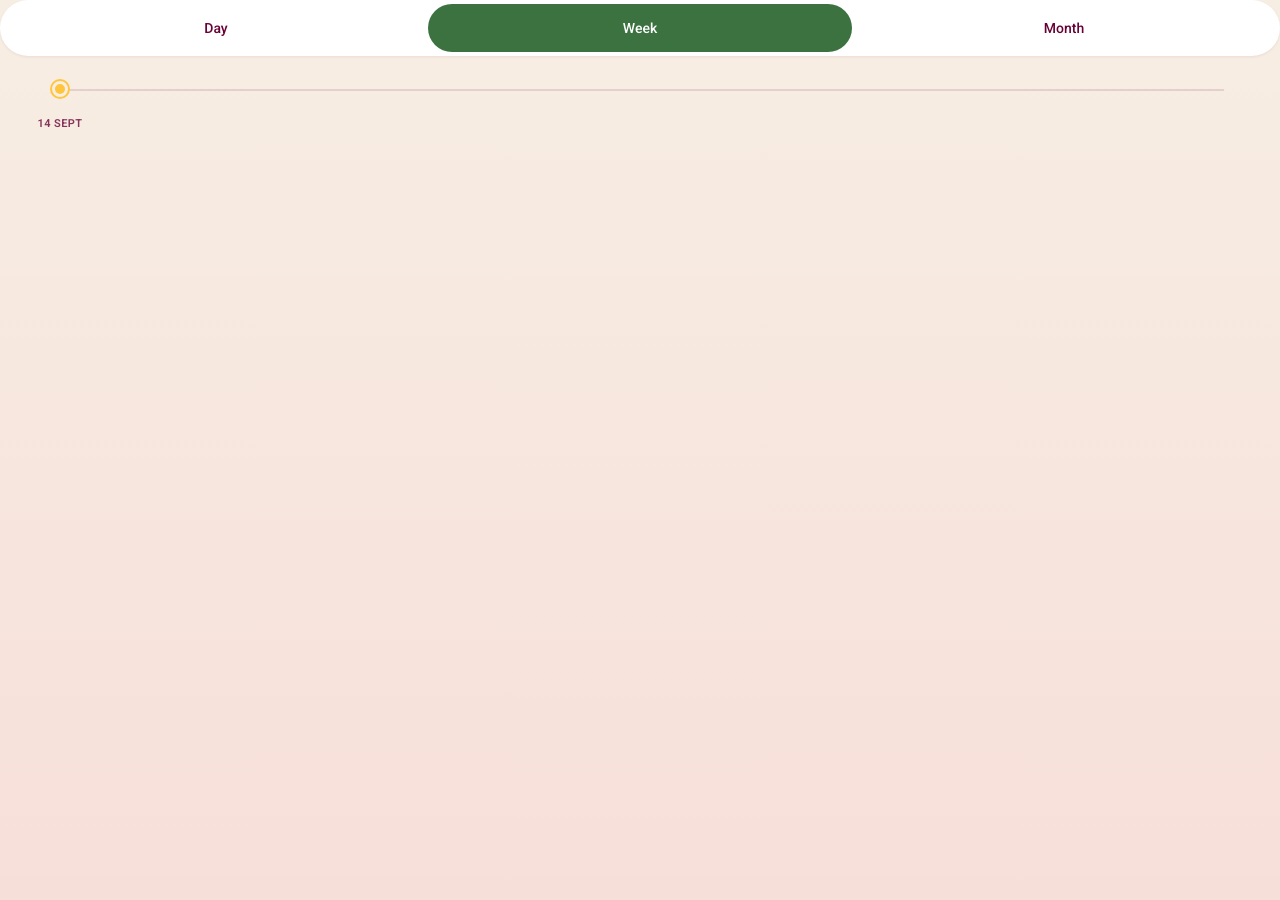
it: Timeline › opens a milestone explainer on tap
The width and height of the screenshot is (1280, 900).
Click the button with test id "timeline-dot" at (60, 103), box left=4, top=70, right=116, bottom=136
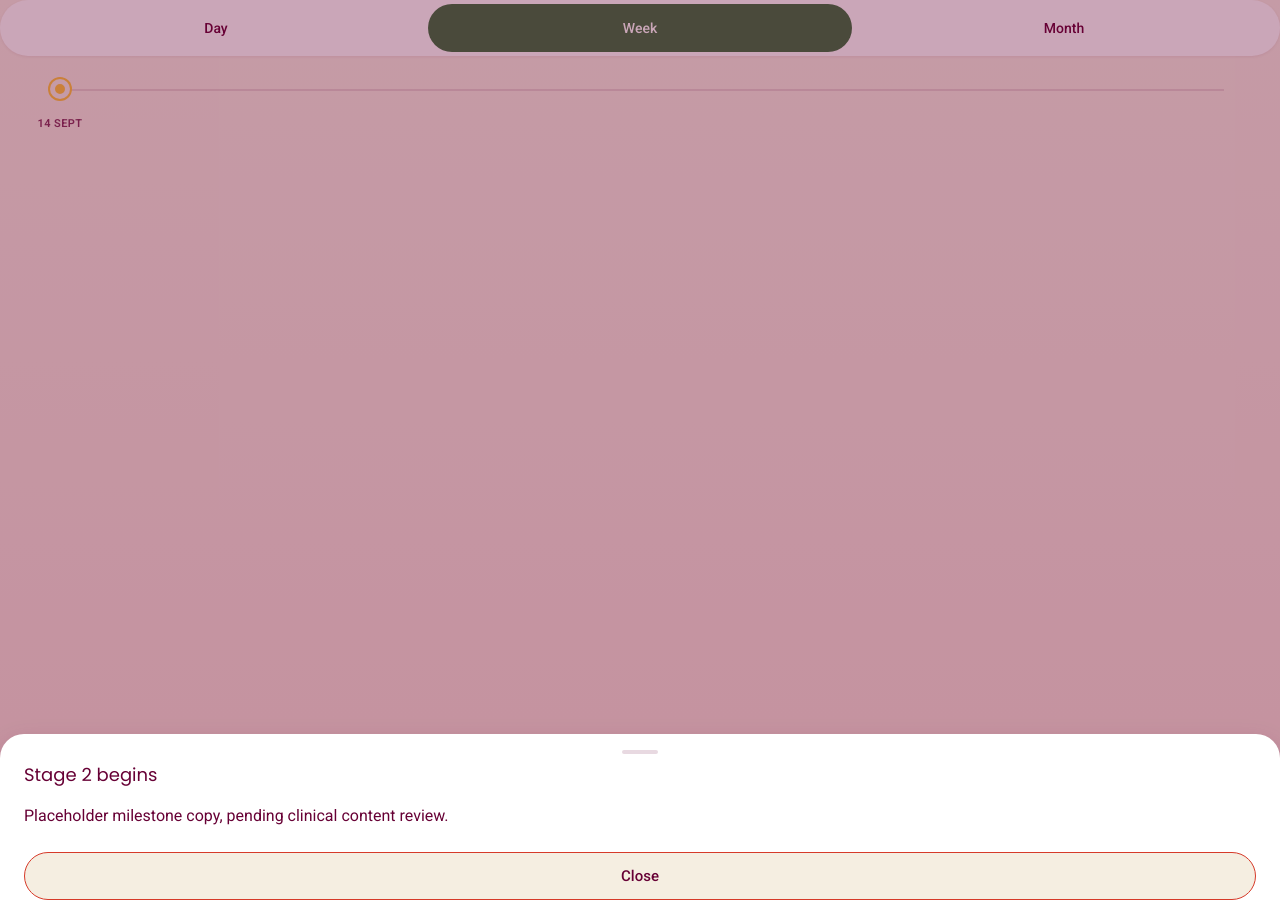
Expected: the dialog is shown, left=0, top=734, right=1279, bottom=899
